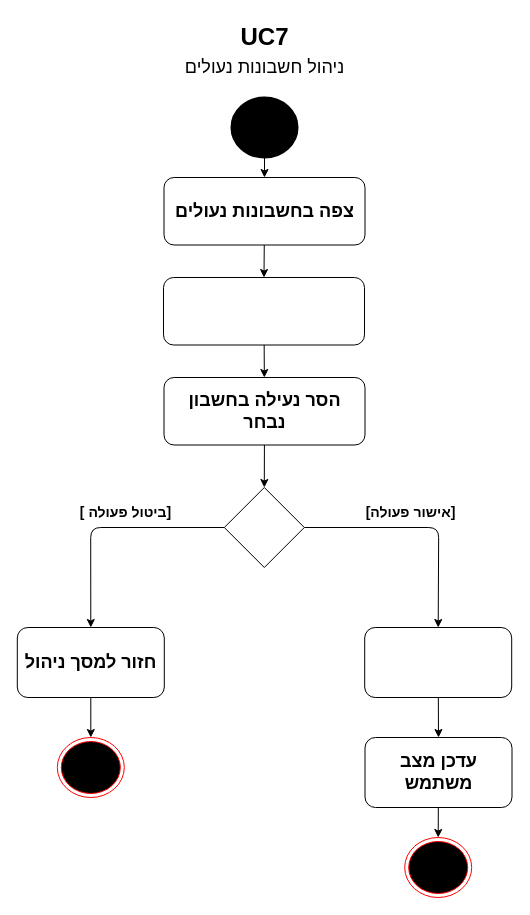
The diagram is 530 pixels wide and 915 high, and some of its shapes have lost their labels. The box of each missing label's shape, as (x1, y1, x2, y2) in pixels:
אפס מונה כשלונות: (364, 626, 512, 698)
בחר חשבון להסרת נעילה: (162, 276, 364, 345)
